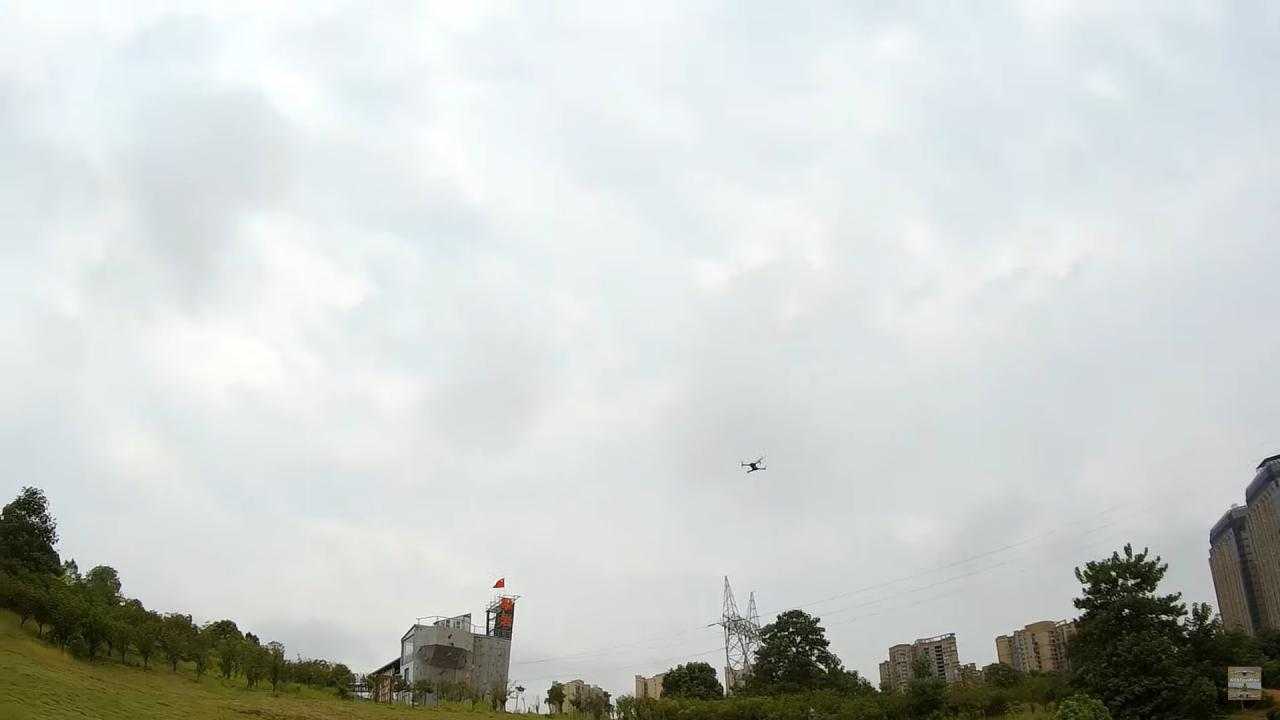Drone: (733, 452, 774, 481)
